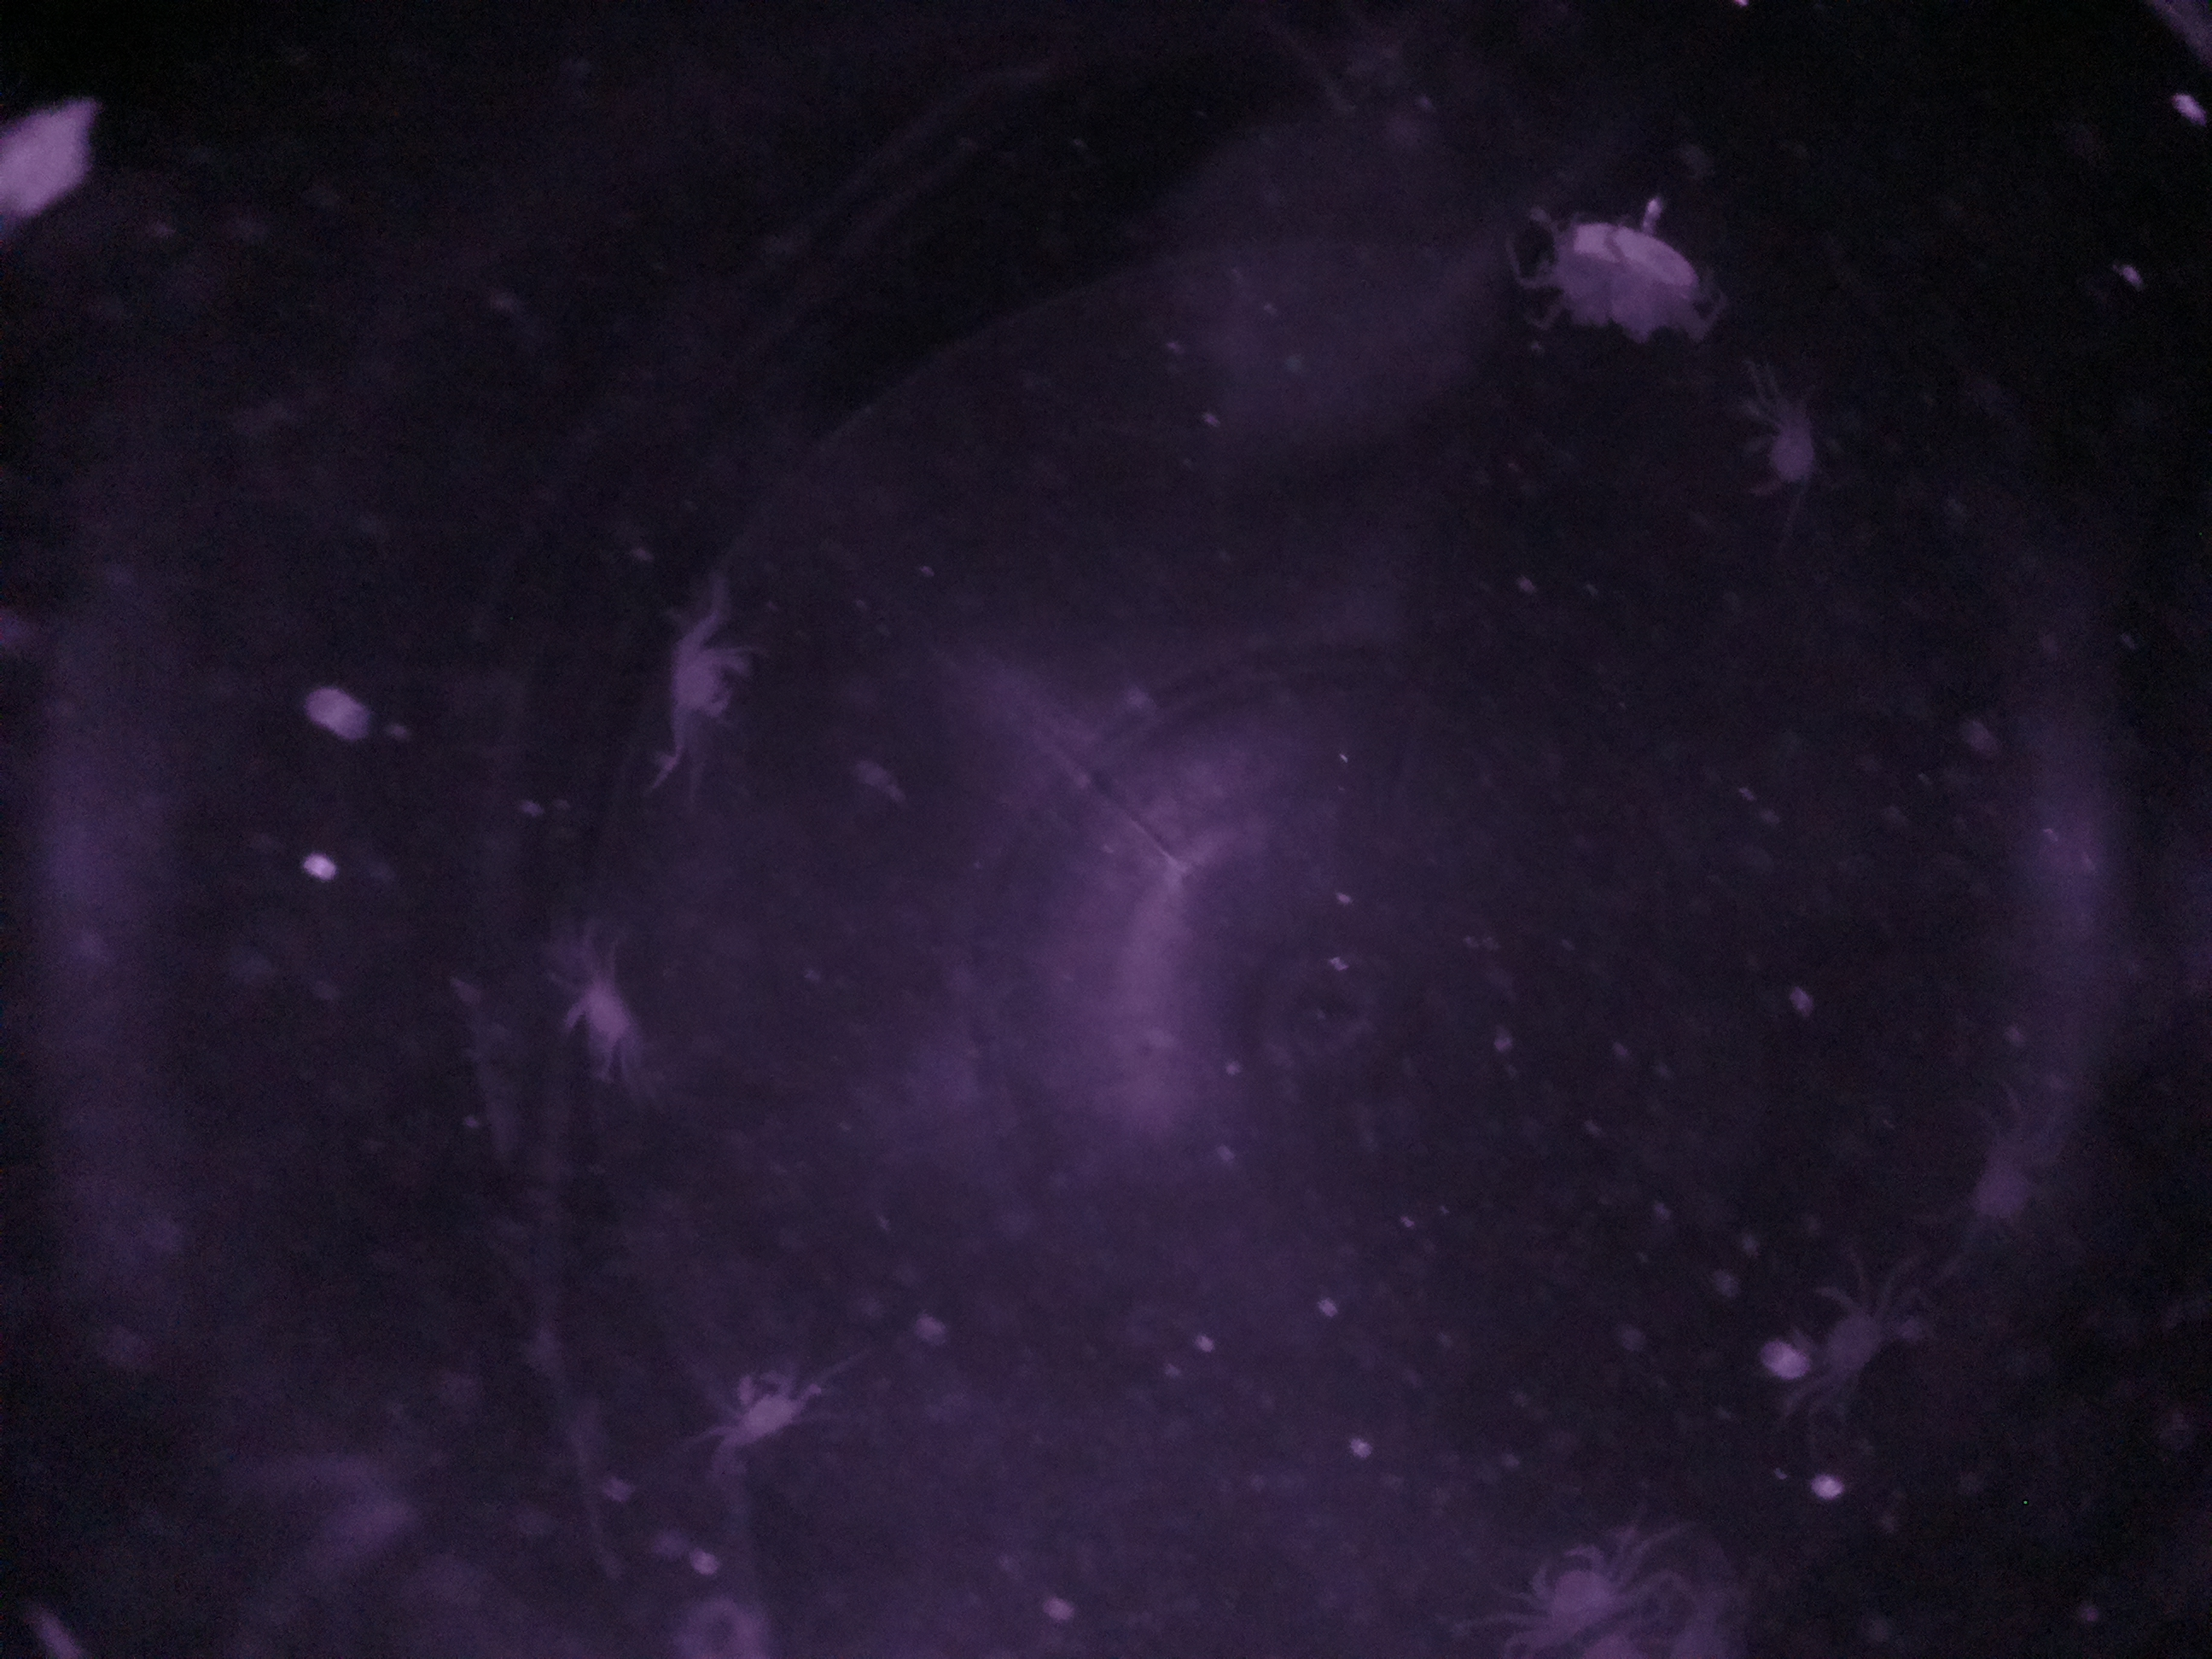Crab: (1771, 1260, 1893, 1406)
